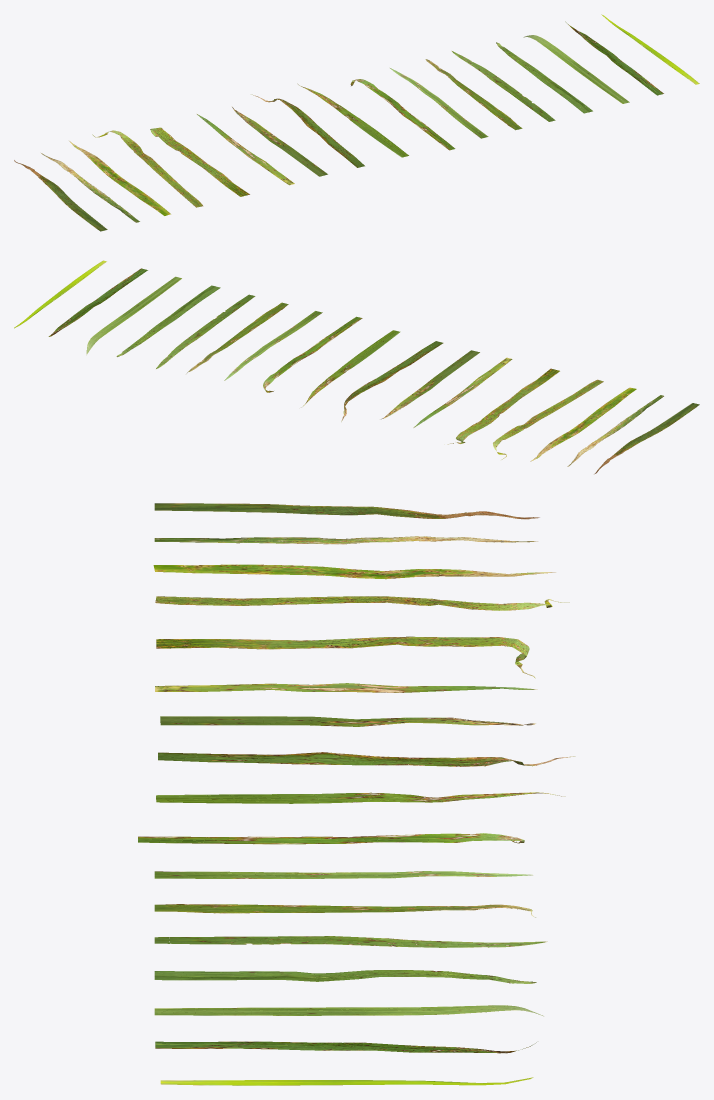
File: pyri_v2.fbx
The picture shows the model from 3 angles, top to bottom: view 1: azimuth 30°, elevation 25°; view 2: azimuth 150°, elevation 25°; view 3: azimuth 270°, elevation 25°; orthographic projection. The views are drawn at different scales.
Parts seen in each view (by area): view 1: 7Pyri (1) G, 7Pyri (3) G, 1Pyri (3), 8Pyri (2) G, 5Pyri (2) G, 6Pyri (1) G, 5Pyri (3) G, 2Pyri (1) G, 3Pyri (2), 5Pyri (1) G, 9Pyri (3) G, 4Pyri (1) G (+5 smaller); view 2: 7Pyri (1) G, 8Pyri (2) G, 1Pyri (3), 7Pyri (3) G, 5Pyri (2) G, 3Pyri (2), 5Pyri (3) G, 2Pyri (1) G, 6Pyri (1) G, 5Pyri (1) G, 9Pyri (3) G, 6Pyri (2) G (+5 smaller); view 3: 7Pyri (1) G, 6Pyri (1) G, 5Pyri (2) G, 1Pyri (3), 8Pyri (2) G, 3Pyri (2), 5Pyri (1) G, 7Pyri (3) G, 2Pyri (1) G, 5Pyri (3) G, 9Pyri (3) G, 4Pyri (1) G (+5 smaller).
Boxes of the visible parts, bbox=[...] form: 7Pyri (1) G: bbox=[150, 127, 242, 192]; 7Pyri (3) G: bbox=[92, 130, 199, 203]; 1Pyri (3): bbox=[523, 35, 624, 100]; 8Pyri (2) G: bbox=[69, 141, 164, 210]; 5Pyri (2) G: bbox=[297, 83, 404, 154]; 6Pyri (1) G: bbox=[251, 94, 359, 161]; 5Pyri (3) G: bbox=[231, 106, 320, 171]; 2Pyri (1) G: bbox=[496, 42, 586, 107]; 3Pyri (2): bbox=[451, 50, 551, 119]; 5Pyri (1) G: bbox=[350, 79, 450, 145]; 9Pyri (3) G: bbox=[14, 160, 102, 227]; 4Pyri (1) G: bbox=[425, 59, 516, 125]; 7Pyri (1) G: bbox=[447, 373, 553, 444]; 8Pyri (2) G: bbox=[530, 392, 628, 461]; 1Pyri (3): bbox=[86, 280, 177, 354]; 7Pyri (3) G: bbox=[493, 383, 597, 459]; 5Pyri (2) G: bbox=[301, 333, 396, 407]; 3Pyri (2): bbox=[156, 297, 251, 368]; 5Pyri (3) G: bbox=[380, 355, 472, 419]; 2Pyri (1) G: bbox=[116, 290, 212, 356]; 6Pyri (1) G: bbox=[341, 345, 434, 421]; 5Pyri (1) G: bbox=[263, 320, 356, 392]; 9Pyri (3) G: bbox=[594, 407, 694, 474]; 6Pyri (2) G: bbox=[48, 275, 138, 336]; 7Pyri (1) G: bbox=[181, 636, 535, 678]; 6Pyri (1) G: bbox=[183, 752, 575, 766]; 5Pyri (2) G: bbox=[173, 792, 565, 803]; 1Pyri (3): bbox=[172, 1005, 543, 1016]; 8Pyri (2) G: bbox=[183, 564, 555, 579]; 3Pyri (2): bbox=[169, 936, 547, 947]; 5Pyri (1) G: bbox=[159, 833, 524, 844]; 7Pyri (3) G: bbox=[178, 596, 569, 610]; 2Pyri (1) G: bbox=[180, 970, 536, 983]; 5Pyri (3) G: bbox=[188, 716, 535, 726]; 9Pyri (3) G: bbox=[174, 503, 539, 519]; 4Pyri (1) G: bbox=[179, 904, 535, 917].
Bounding box in the file's own units: 3.56 × 0.0729 × 1.13.
Materials: 17 (17 with a texture image).
